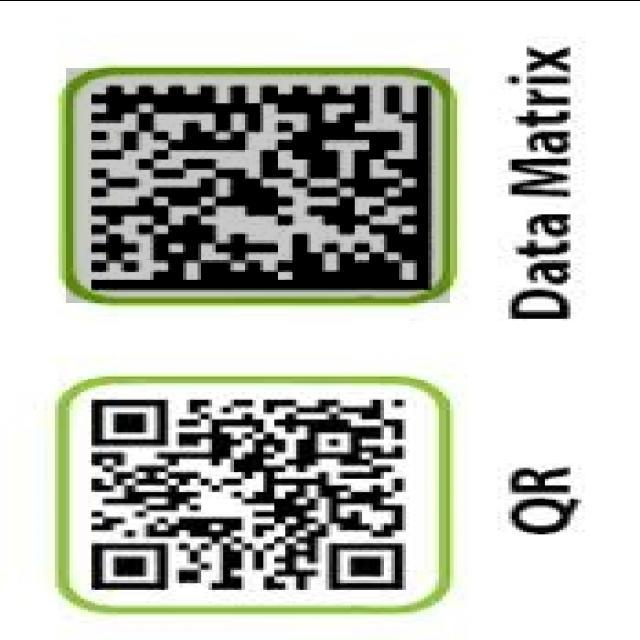Data-Matrix: (66, 67, 450, 302)
